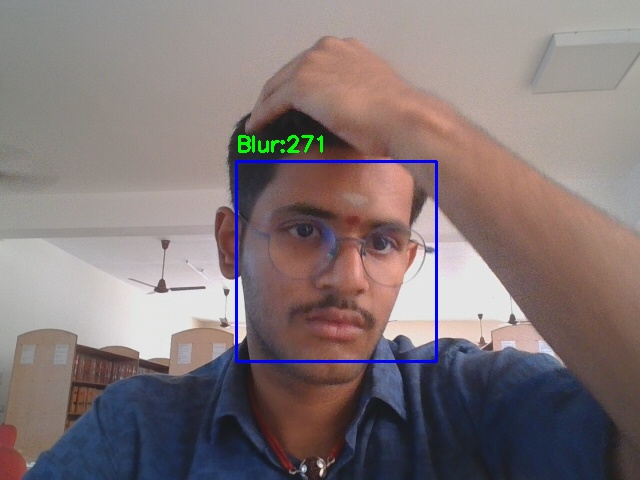real: (236, 161, 436, 361)
